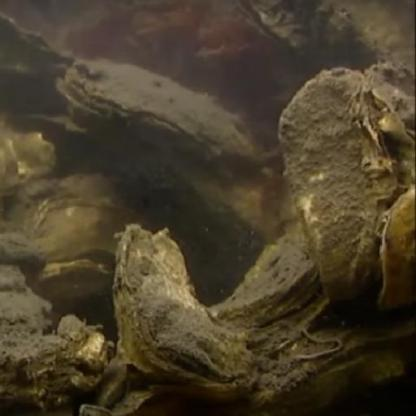Oyster- Indeterminate: (237, 0, 315, 56)
Oyster-Closed: (285, 68, 401, 304), (115, 229, 263, 398), (58, 58, 267, 166), (34, 197, 145, 262), (382, 186, 416, 314), (29, 261, 113, 307)
